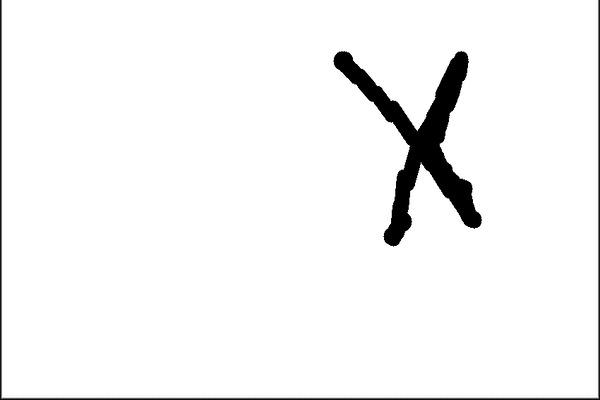X: (318, 33, 513, 264)
